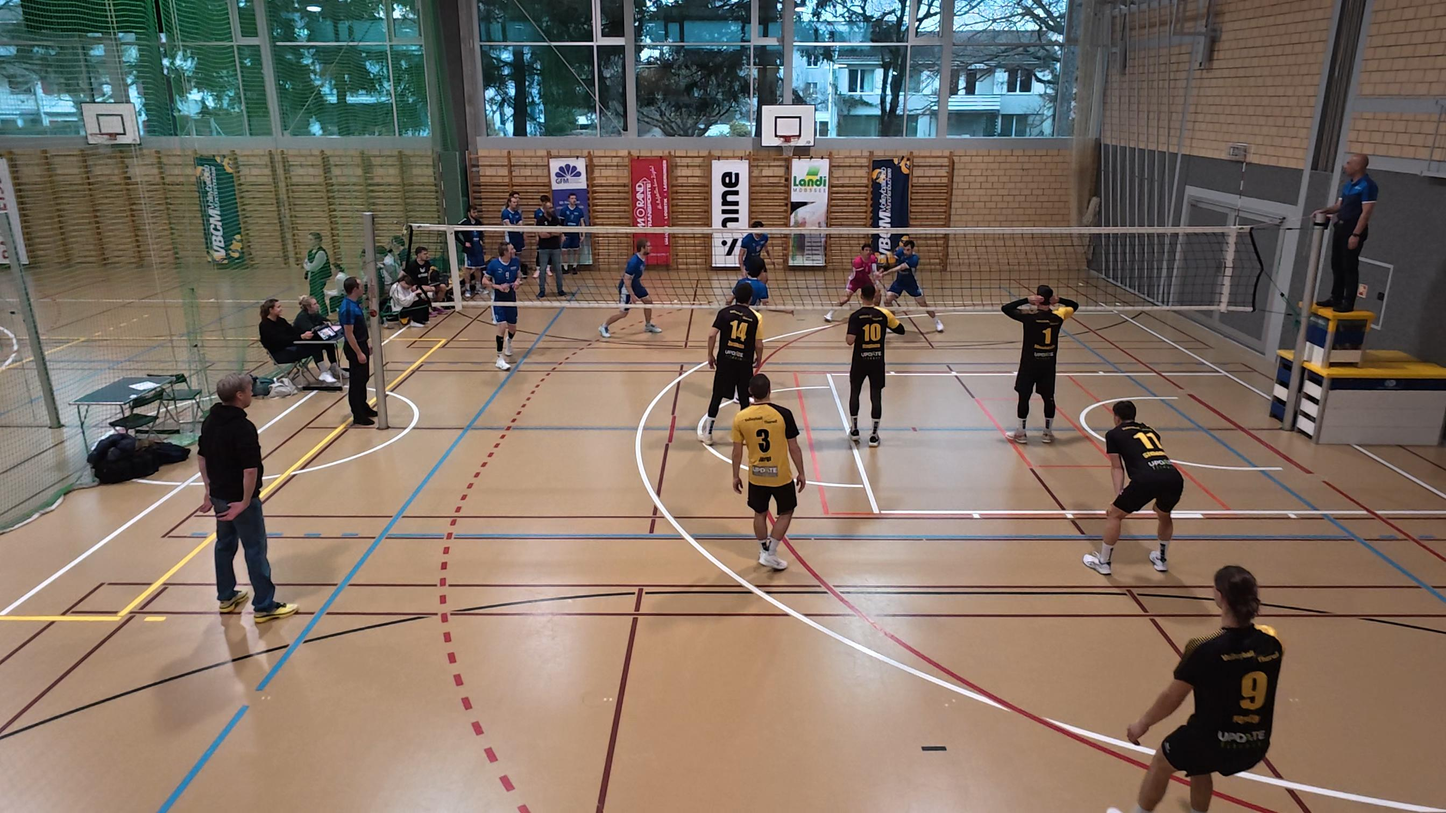ricezione: (882, 234, 944, 333)
